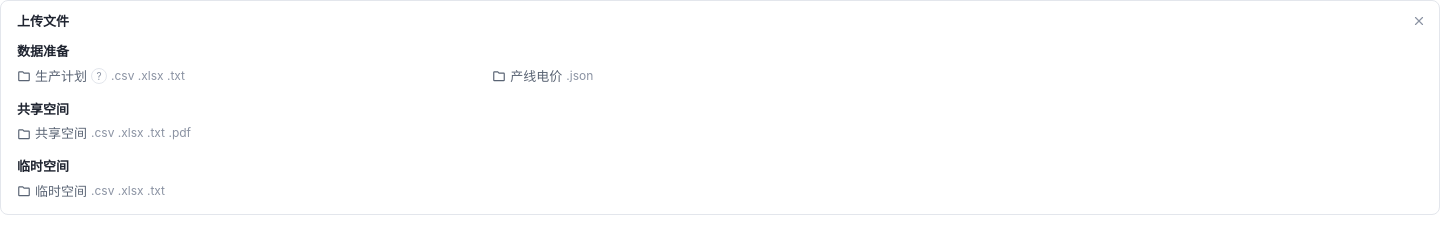
UploadMenu - 目录树与字段约束提示 › 带字段约束的目录默认收起提示，点击「?」后展示「表头须含」与可选列类型标注
Expected: the text "表头须含" is not shown
Click the button with class "hint-tip__btn": (99, 76) [91,68,107,84]
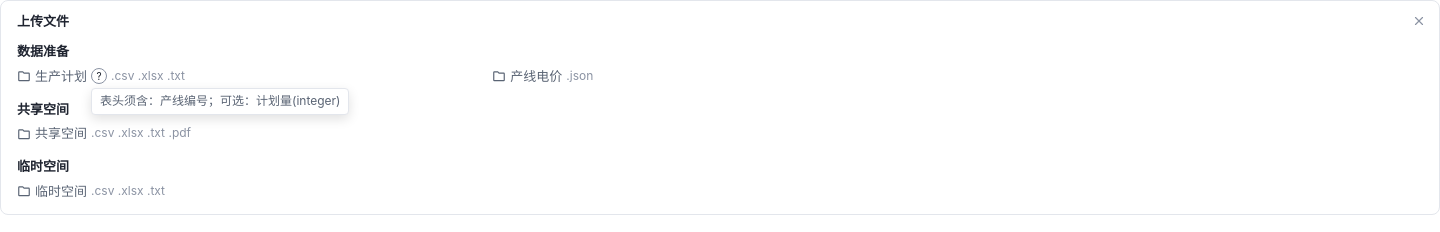
Now the tooltip with class "hint-tip__pop" is shown, box [91,88,349,115]
Now the tooltip with class "hint-tip__pop" shows "表头须含：产线编号", box [100,93,340,108]
Now the tooltip with class "hint-tip__pop" shows "可选：计划量(integer)", box [100,93,340,108]
